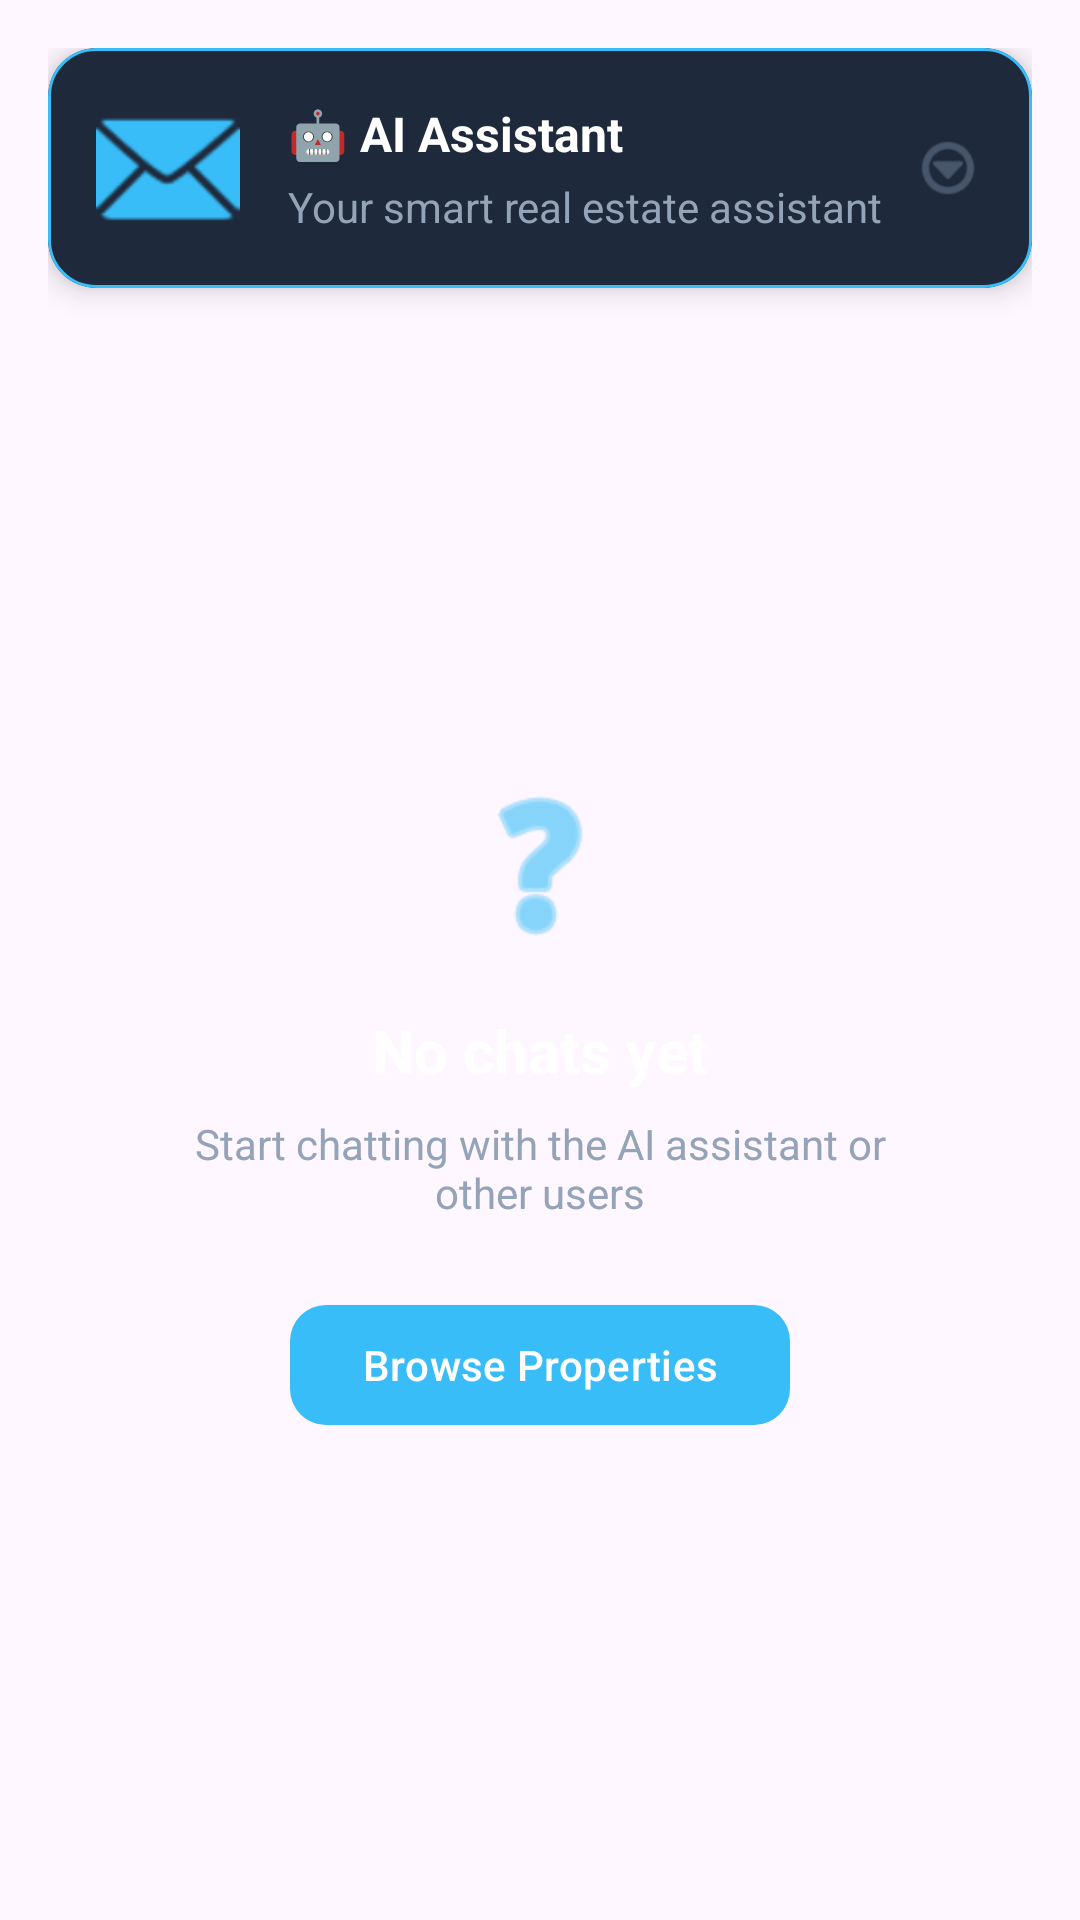

Locate icon controls on the screen. Image size 1080px x 1920px, boxes as rect(x1, y1, x2, y2).
email: rect(96, 118, 240, 220)
help: rect(498, 797, 582, 935)
more: rect(922, 142, 974, 194)
